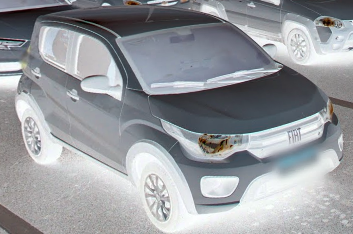car: (16, 6, 343, 231)
